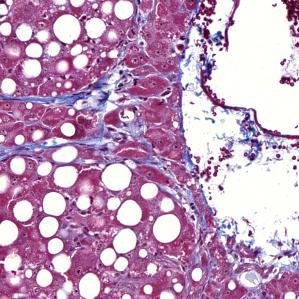fibrosis: (81, 72, 179, 161)
